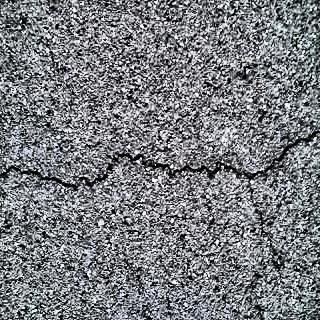crack: (0, 133, 320, 194)
